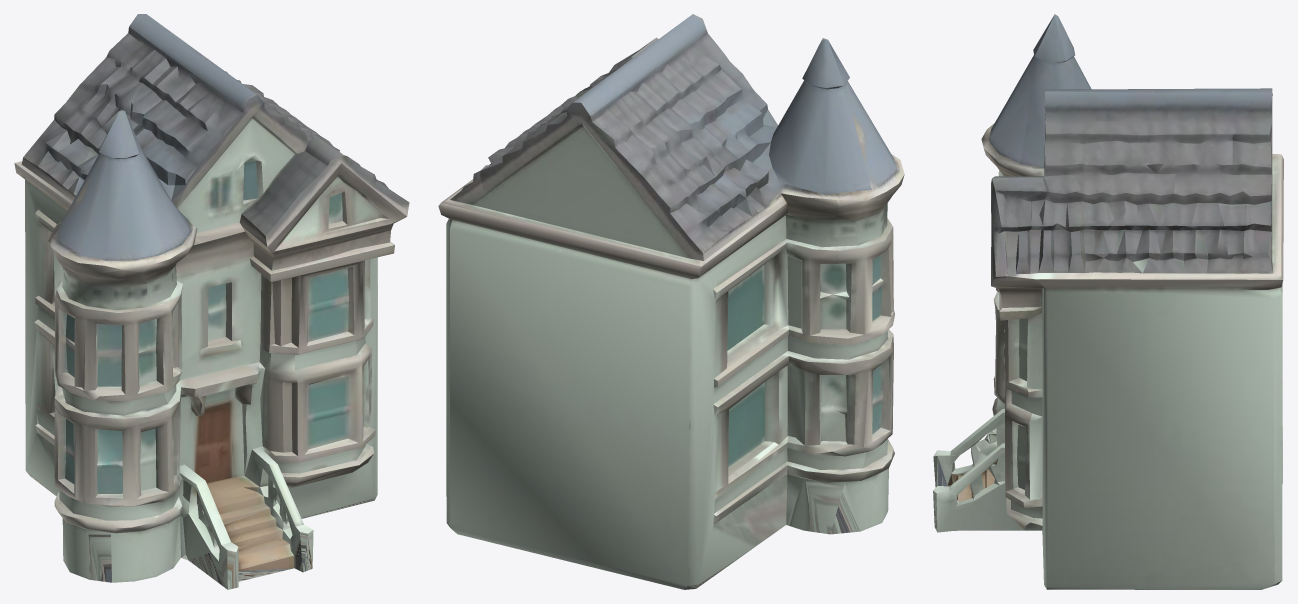
File: victorian-a.glb
The picture shows the model from 3 angles, left to right: view 1: azimuth 30°, elevation 25°; view 2: azimuth 150°, elevation 25°; view 3: azimuth 270°, elevation 25°; orthographic projection. The views are drawn at different scales.
Visible parts, largest first — view 1: house-a; view 2: house-a; view 3: house-a.
Boxes of the visible parts, x1,y1,x2,y2 form: house-a: (14,14,409,589); house-a: (438,14,904,589); house-a: (933,14,1283,589).
Size of the model in its own units: 4.23 by 5.6 by 3.94.
1 material, 1 textured.
